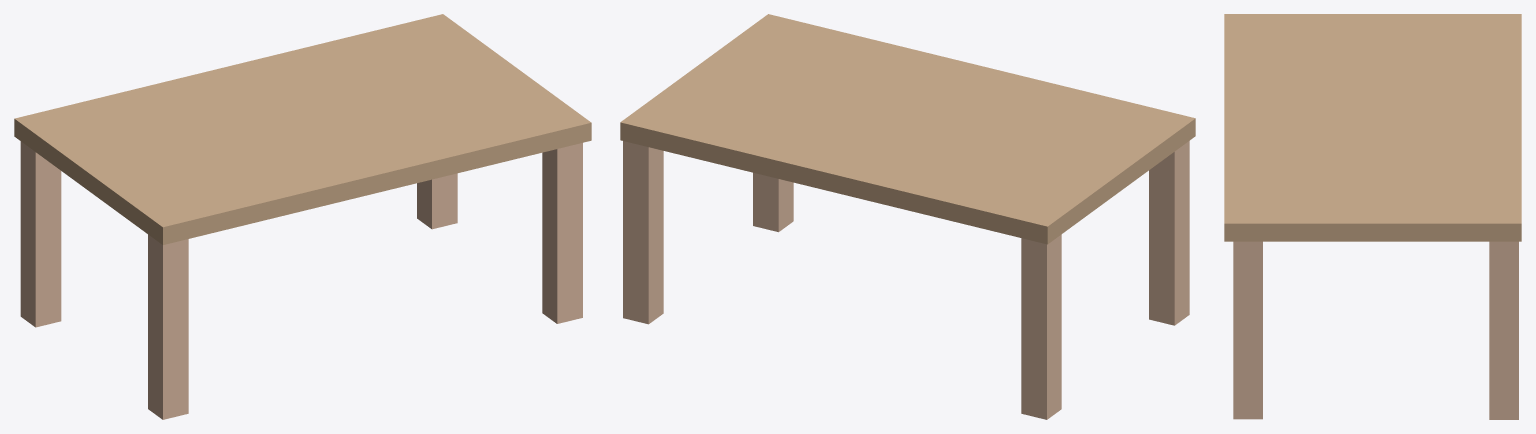
Rendered from tsukue.fbx.
The picture shows the model from 3 angles, left to right: view 1: azimuth 30°, elevation 25°; view 2: azimuth 150°, elevation 25°; view 3: azimuth 270°, elevation 25°; orthographic projection.
Parts seen in each view (by area): view 1: Cube, Cube.001; view 2: Cube, Cube.001; view 3: Cube, Cube.001.
Part boxes in pixels (box(x1,y1,x2,y2)): Cube: box(14, 14, 591, 244); Cube.001: box(20, 141, 582, 419); Cube: box(620, 14, 1195, 244); Cube.001: box(623, 141, 1189, 419); Cube: box(1224, 14, 1521, 241); Cube.001: box(1233, 241, 1518, 419).
Bounding box in the file's own units: 500 × 220 × 300.
